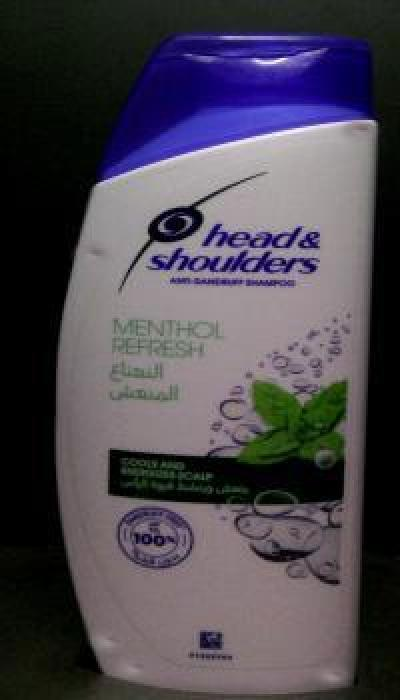dent_marg: (91, 627, 137, 657), (116, 657, 160, 683), (342, 118, 376, 148), (83, 240, 119, 268), (313, 663, 343, 677)
